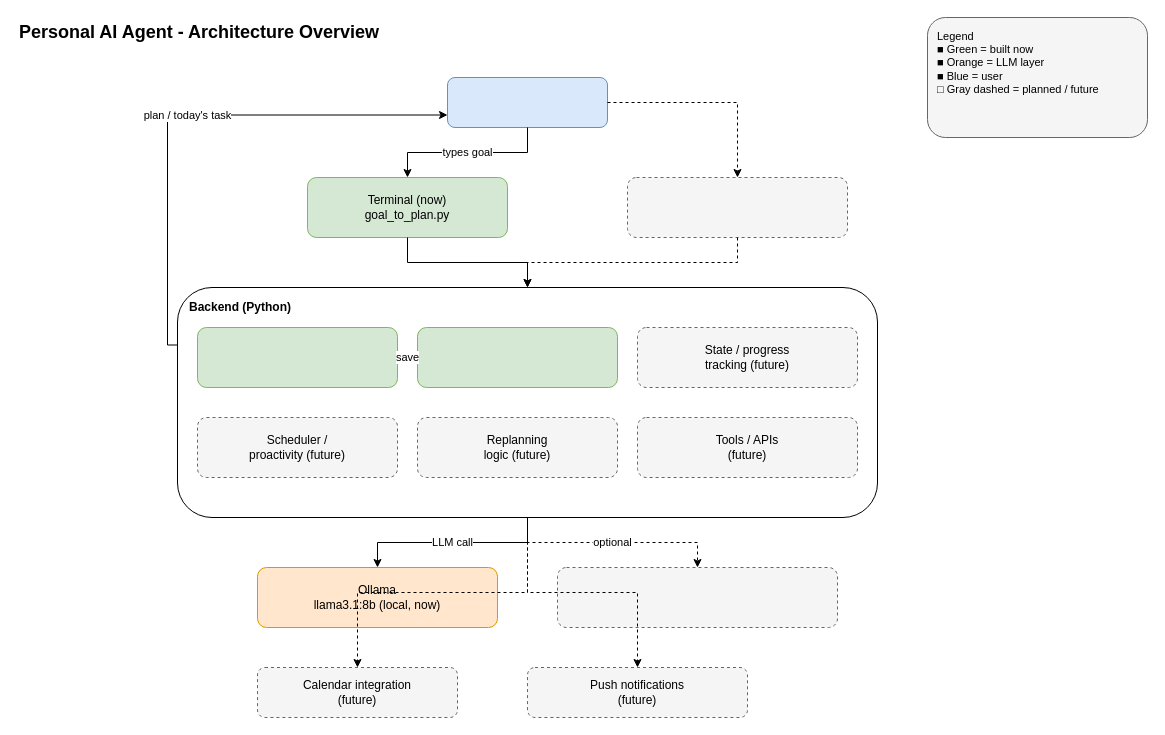
The diagram is 1165 pixels wide and 735 high, and some of its shapes have lost their labels. The shapes that lost their labels are listed below. From the top down, each one's box as (x1, y1, x2, y2) in pixels, then its label:
(446, 76, 608, 128): User
(626, 176, 848, 238): iOS App (future) Swift + SwiftUI
(196, 326, 398, 388): Goal -> Plan (LLM call)
(416, 326, 618, 388): Storage data/plans.json
(556, 566, 838, 628): Claude API claude-opus-5 (optional, future)
